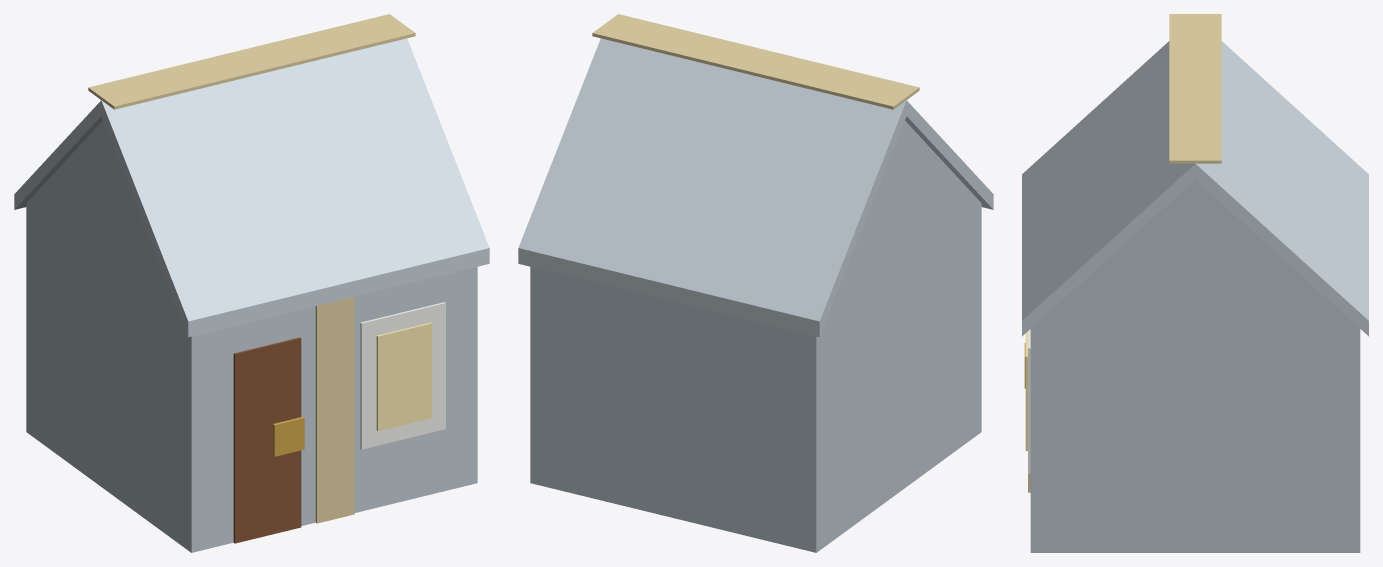
File: rental_capsule.glb
The picture shows the model from 3 angles, left to right: view 1: azimuth 30°, elevation 25°; view 2: azimuth 150°, elevation 25°; view 3: azimuth 270°, elevation 25°; orthographic projection.
Visible parts, largest first — view 1: rental_capsule_Body; view 2: rental_capsule_Body; view 3: rental_capsule_Body.
Part boxes in pixels (left/top/right/bottom): rental_capsule_Body: left=14, top=14, right=489, bottom=552; rental_capsule_Body: left=518, top=14, right=993, bottom=552; rental_capsule_Body: left=1022, top=14, right=1368, bottom=552.
Size of the model in its own units: 0.4 by 0.504 by 0.4.
